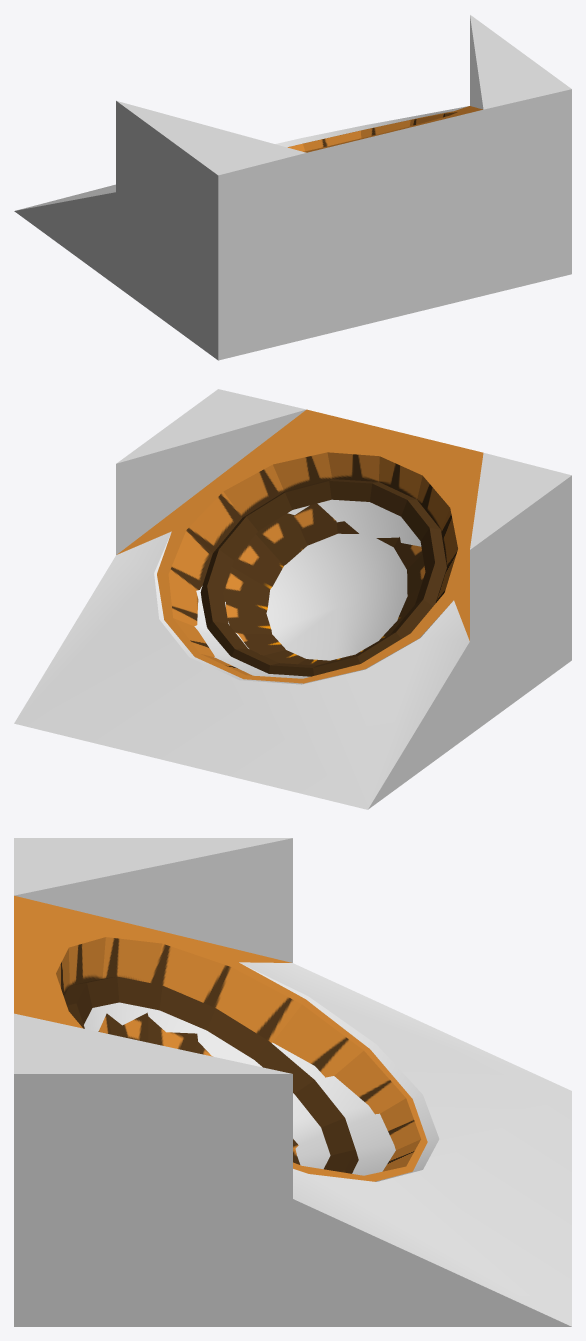
File: ExportedC4DFBXFile.fbx
3 renders of one model, top to bottom at view 1: azimuth 30°, elevation 25°; view 2: azimuth 150°, elevation 25°; view 3: azimuth 270°, elevation 25°, orthographic. The views are drawn at different scales.
Visible parts, largest first — view 1: Exit_Ramp_Coll, Exit_Ramp; view 2: Exit_Ramp_Coll, Exit_Ramp, Exit_Ramp_I; view 3: Exit_Ramp_Coll, Exit_Ramp, Exit_Ramp_I.
Boxes of the visible parts, box(x1,y1,x2,y2) form: Exit_Ramp_Coll: box(14, 15, 571, 360); Exit_Ramp: box(287, 106, 482, 152); Exit_Ramp_Coll: box(14, 389, 571, 809); Exit_Ramp: box(117, 409, 483, 683); Exit_Ramp_I: box(200, 479, 446, 676); Exit_Ramp_Coll: box(14, 838, 571, 1326); Exit_Ramp: box(14, 895, 427, 1181); Exit_Ramp_I: box(64, 976, 358, 1173).
Size of the model in its own units: 100 by 50.29 by 100.
1 material, 1 textured.
